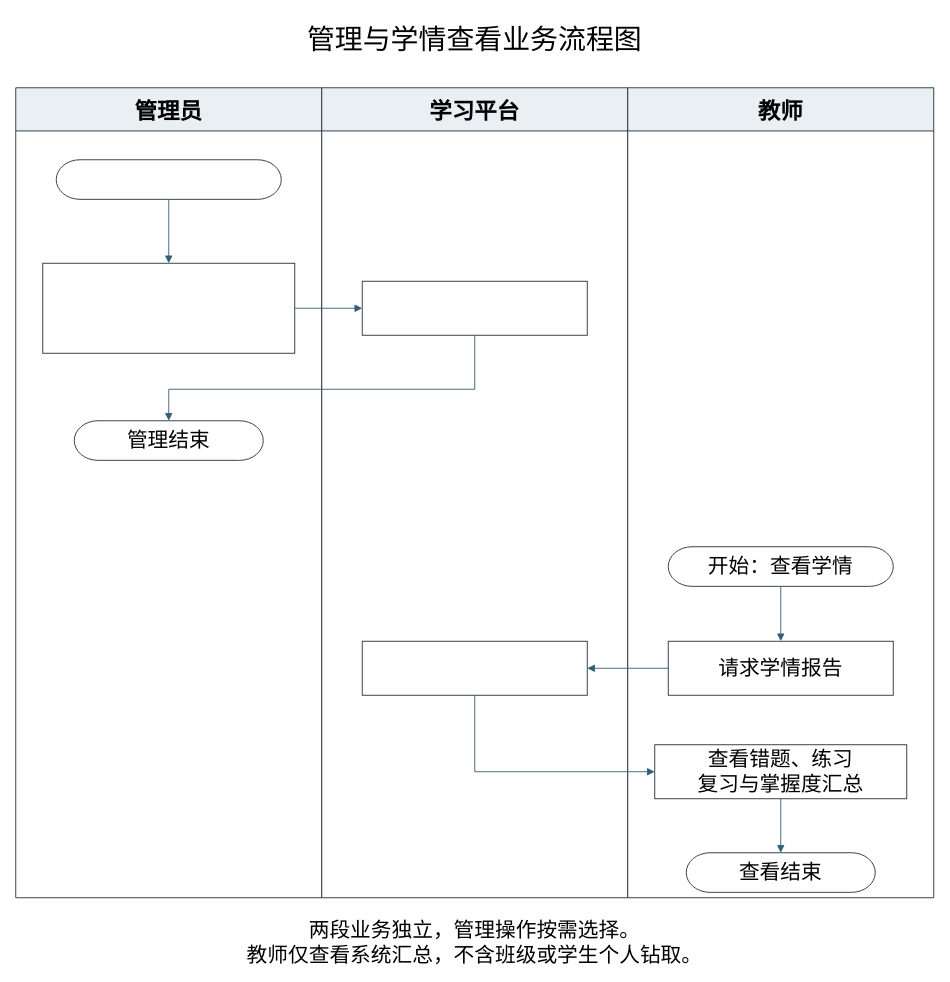
Image size: 950x982. Some labels were removed from this diagram. The centre of each missing label's shape, as x and y in pixels:
"开始：基础维护" goes at (x=168, y=179).
"按当前记录 聚合系统学情" goes at (x=474, y=667).
"校验并保存操作 提供基础数据" goes at (x=474, y=307).
"维护科目与知识点 查询、停用账号 按需发布公告" goes at (x=168, y=307).
